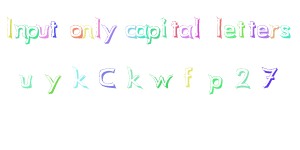2: (234, 66, 253, 89)
7: (261, 66, 278, 89)
C: (97, 67, 117, 88)
I: (3, 15, 18, 41)
a: (178, 24, 194, 39), (135, 23, 149, 39)
c: (123, 23, 137, 39)
e: (223, 24, 237, 39), (256, 23, 269, 39)
f: (181, 65, 194, 88)
i: (160, 16, 168, 38)
k: (126, 67, 144, 90), (71, 66, 88, 90)
l: (213, 14, 225, 40), (93, 15, 102, 40), (194, 15, 203, 40)
n: (14, 23, 28, 39), (81, 24, 94, 40)
o: (68, 23, 84, 40)
p: (207, 73, 223, 96), (24, 24, 39, 46), (146, 23, 161, 45)
r: (269, 23, 280, 39)
s: (280, 23, 292, 40)
t: (246, 18, 257, 39), (48, 18, 58, 40), (169, 19, 180, 39), (236, 18, 246, 38)
u: (18, 72, 33, 88), (36, 22, 49, 40)
w: (148, 72, 173, 90)
y: (44, 72, 61, 95), (101, 22, 117, 44)
